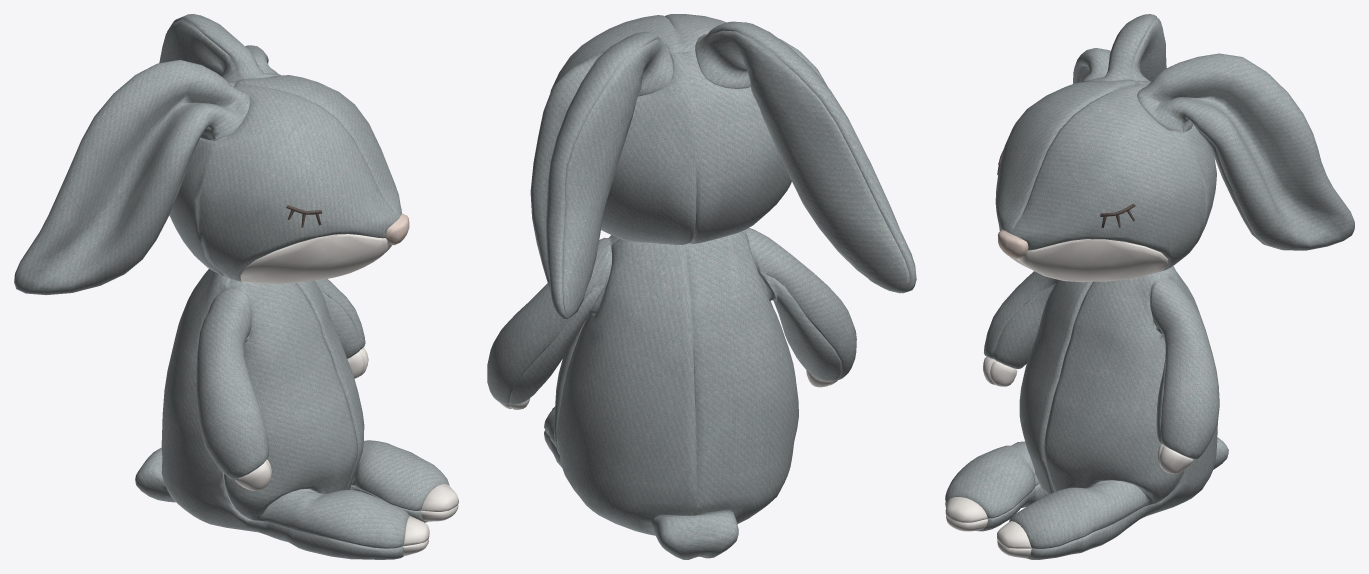
Rendered from peluche_conejo.obj.
3 views of the same model, side by side, from view 1: azimuth 30°, elevation 25°; view 2: azimuth 150°, elevation 25°; view 3: azimuth 270°, elevation 25° (orthographic). The views are drawn at different scales.
Parts seen in each view (by area): view 1: Mesh2 Group59_1 Model, Mesh1 Group59_1 Model; view 2: Mesh1 Group59_1 Model, Mesh2 Group59_1 Model; view 3: Mesh2 Group59_1 Model, Mesh1 Group59_1 Model.
Part boxes in pixels (bbox=[...]): Mesh2 Group59_1 Model: bbox=[14, 14, 409, 295]; Mesh1 Group59_1 Model: bbox=[135, 269, 458, 559]; Mesh1 Group59_1 Model: bbox=[487, 228, 856, 559]; Mesh2 Group59_1 Model: bbox=[530, 14, 916, 319]; Mesh2 Group59_1 Model: bbox=[995, 14, 1354, 282]; Mesh1 Group59_1 Model: bbox=[945, 266, 1228, 559].
Bounding box in the file's own units: 0.4636 × 0.5422 × 0.4538.
